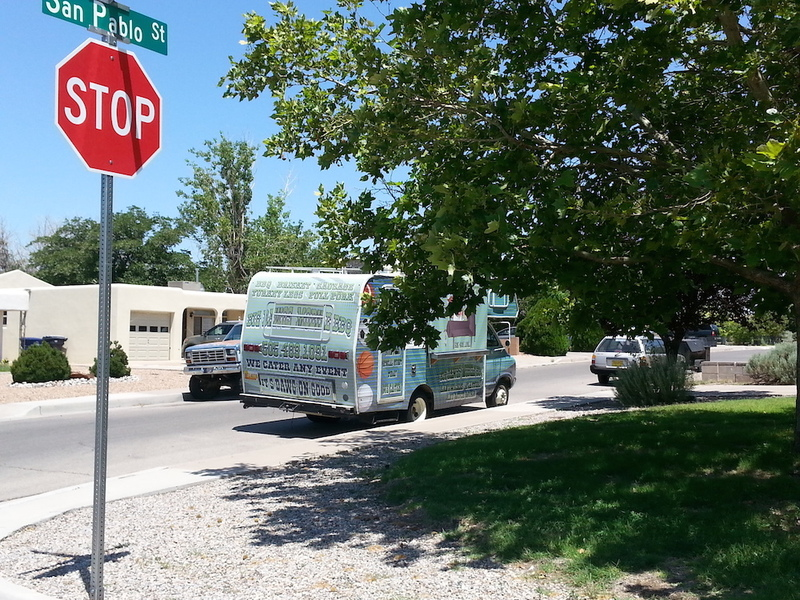stop: (57, 54, 165, 176), (48, 39, 141, 174)
